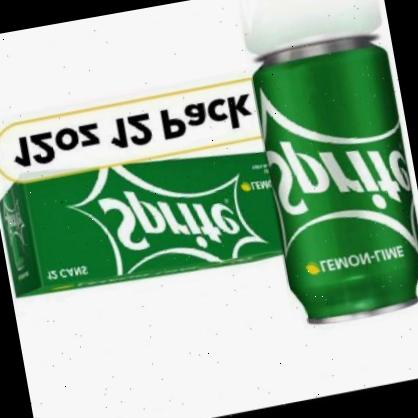can: (248, 30, 418, 333)
